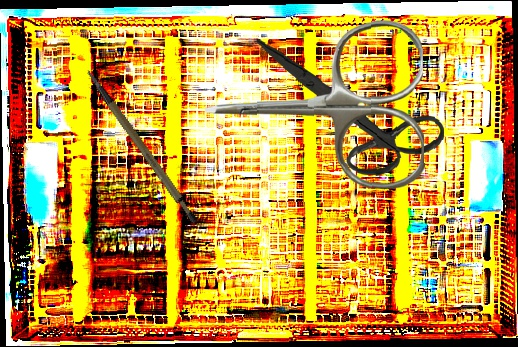Iris Scissors: (203, 18, 425, 195), (250, 39, 449, 179)
Scalpel Handle: (84, 53, 202, 237)
